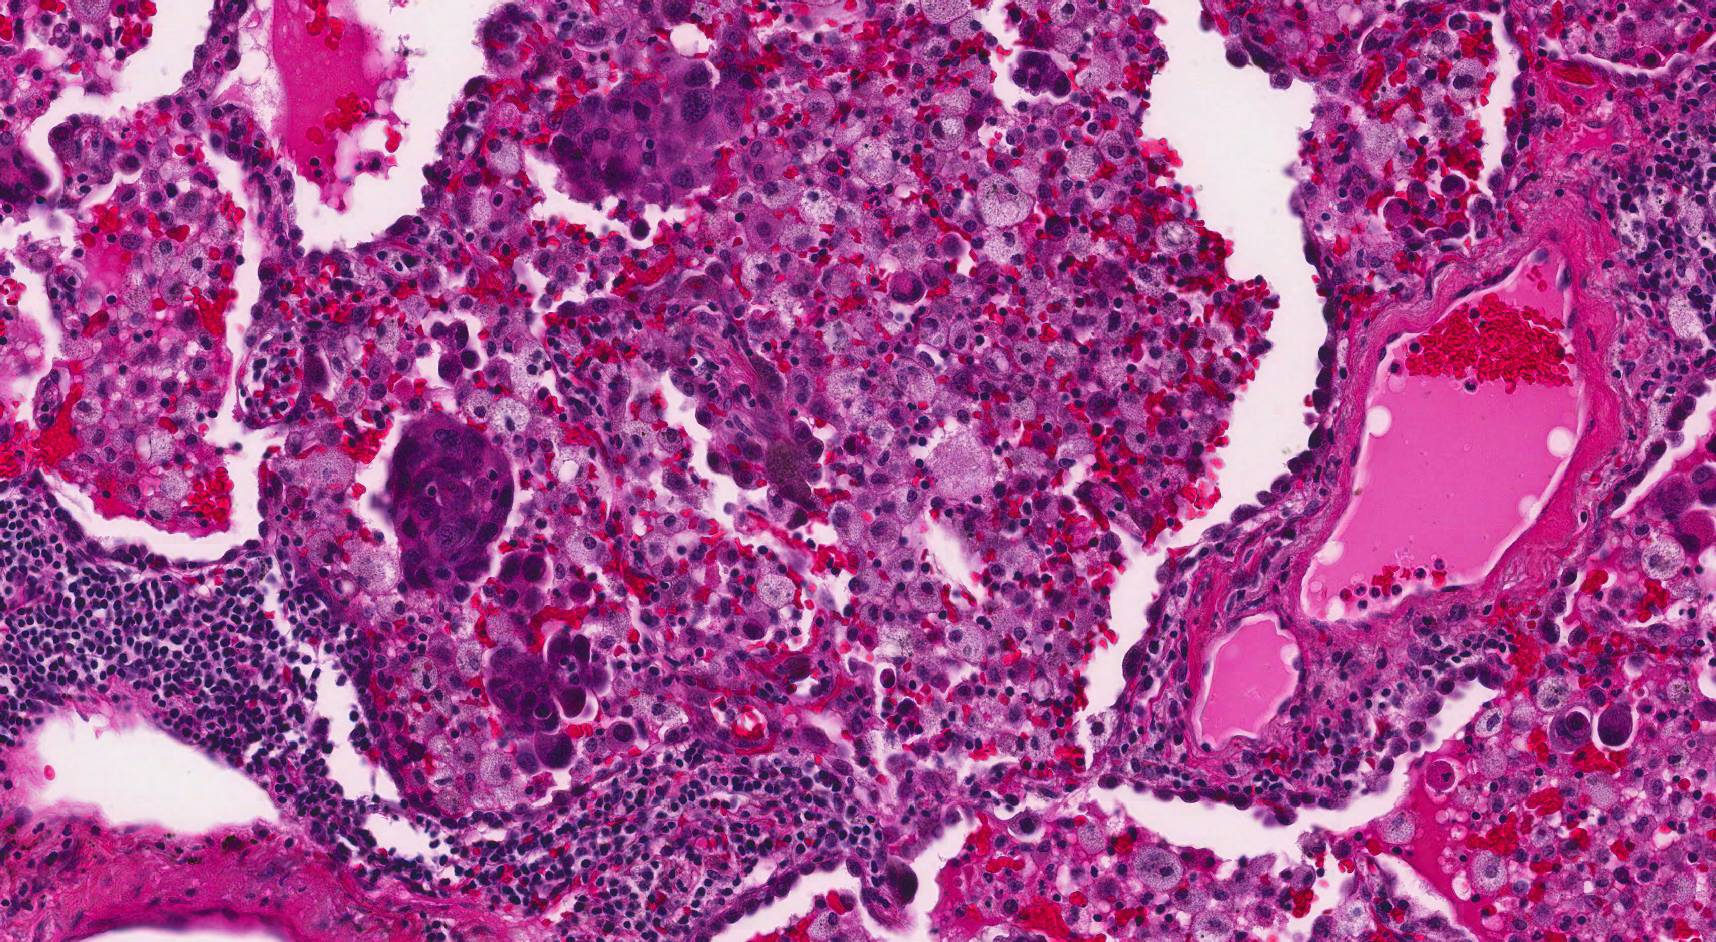stas: (547, 58, 746, 210), (384, 410, 516, 602), (483, 633, 611, 767), (485, 552, 555, 613), (434, 314, 482, 381), (1012, 50, 1071, 100)
